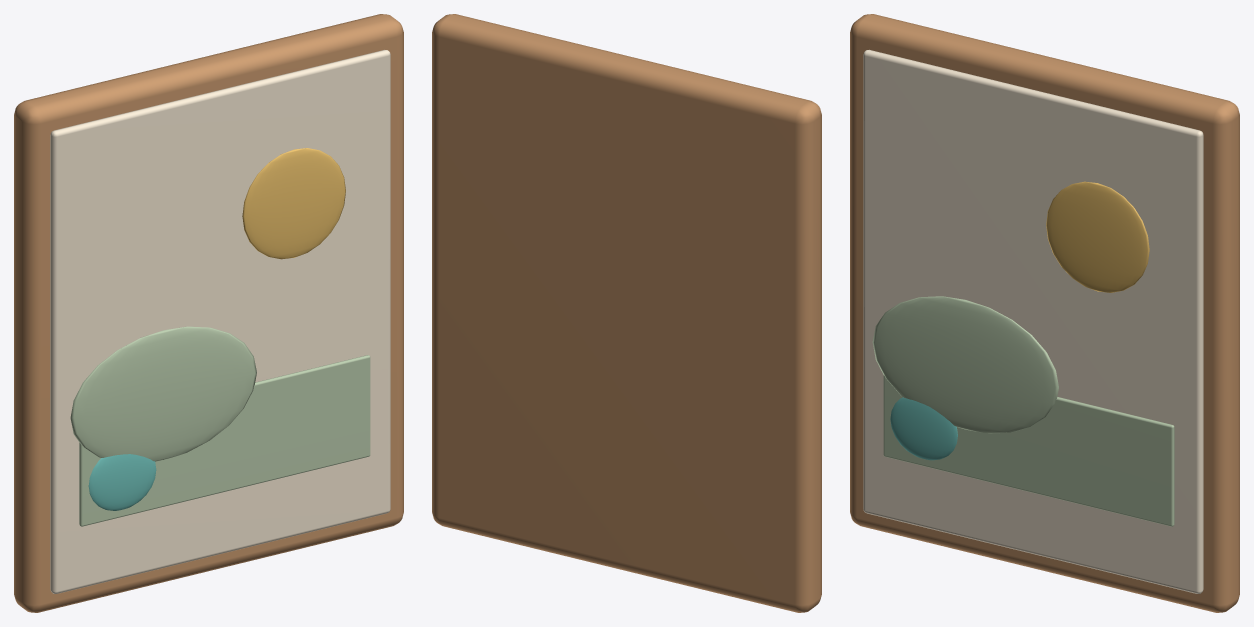
File: poster3.glb
3 renders of one model, left to right at view 1: azimuth 30°, elevation 25°; view 2: azimuth 150°, elevation 25°; view 3: azimuth 330°, elevation 25°, orthographic.
Parts seen in each view (by area): view 1: Paper, Frame, Landscape, Landscape hill, Illustrated sun, Abstract motif; view 2: Frame; view 3: Paper, Frame, Landscape, Landscape hill, Illustrated sun, Abstract motif.
Part boxes in pixels (bbox=[...]): Paper: bbox=[50, 49, 390, 593]; Frame: bbox=[14, 14, 403, 612]; Landscape: bbox=[79, 355, 370, 526]; Landscape hill: bbox=[70, 326, 256, 461]; Illustrated sun: bbox=[242, 148, 345, 259]; Abstract motif: bbox=[88, 454, 156, 510]; Frame: bbox=[432, 14, 821, 612]; Paper: bbox=[863, 49, 1203, 593]; Frame: bbox=[850, 14, 1239, 612]; Landscape: bbox=[883, 375, 1174, 526]; Landscape hill: bbox=[872, 296, 1058, 433]; Illustrated sun: bbox=[1046, 181, 1149, 292]; Abstract motif: bbox=[890, 397, 957, 460].
Size of the model in its own units: 1.1 by 1.4 by 0.15.
